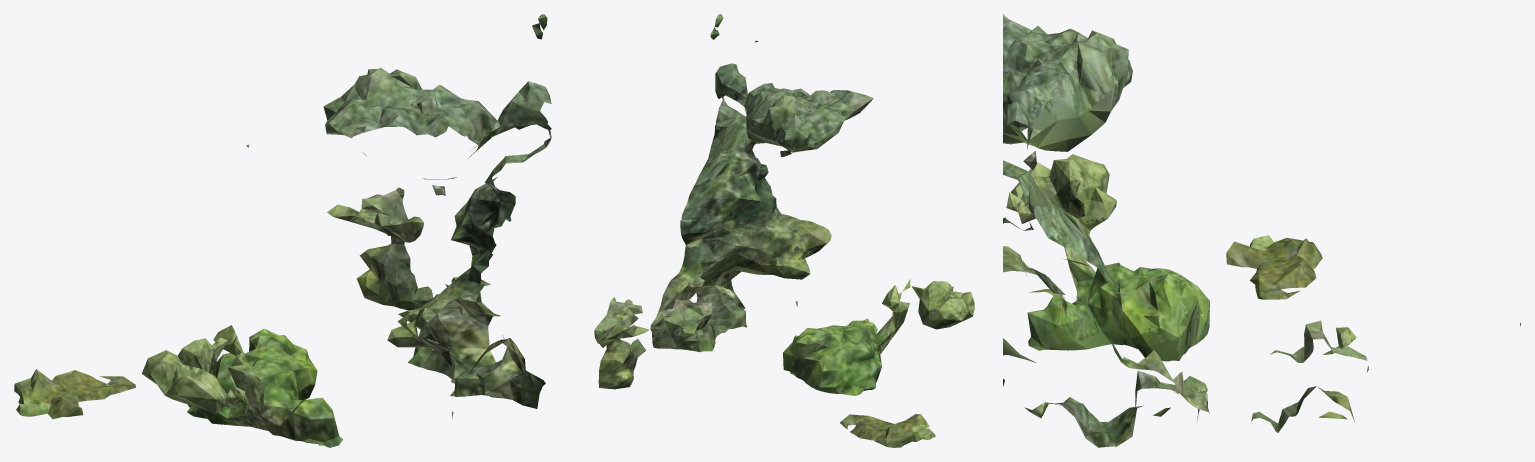
3 renders of one model, left to right at view 1: azimuth 30°, elevation 25°; view 2: azimuth 150°, elevation 25°; view 3: azimuth 270°, elevation 25°, orthographic. The views are drawn at different scales.
Bounding box in the file's own units: 24.8 × 22.4 × 26.11.
2 materials, 2 textured.
